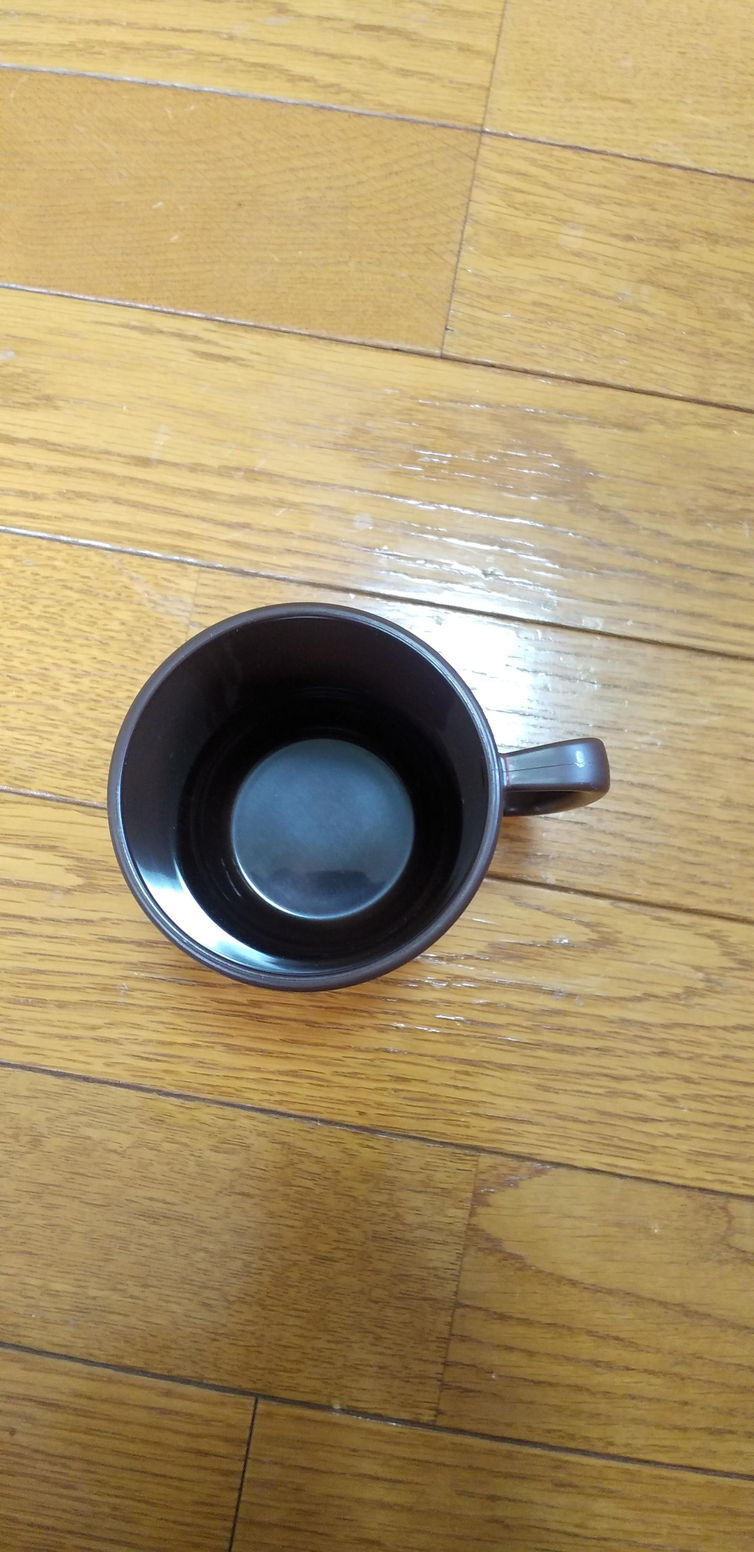mug-real100-3d100: (108, 602, 610, 992)
